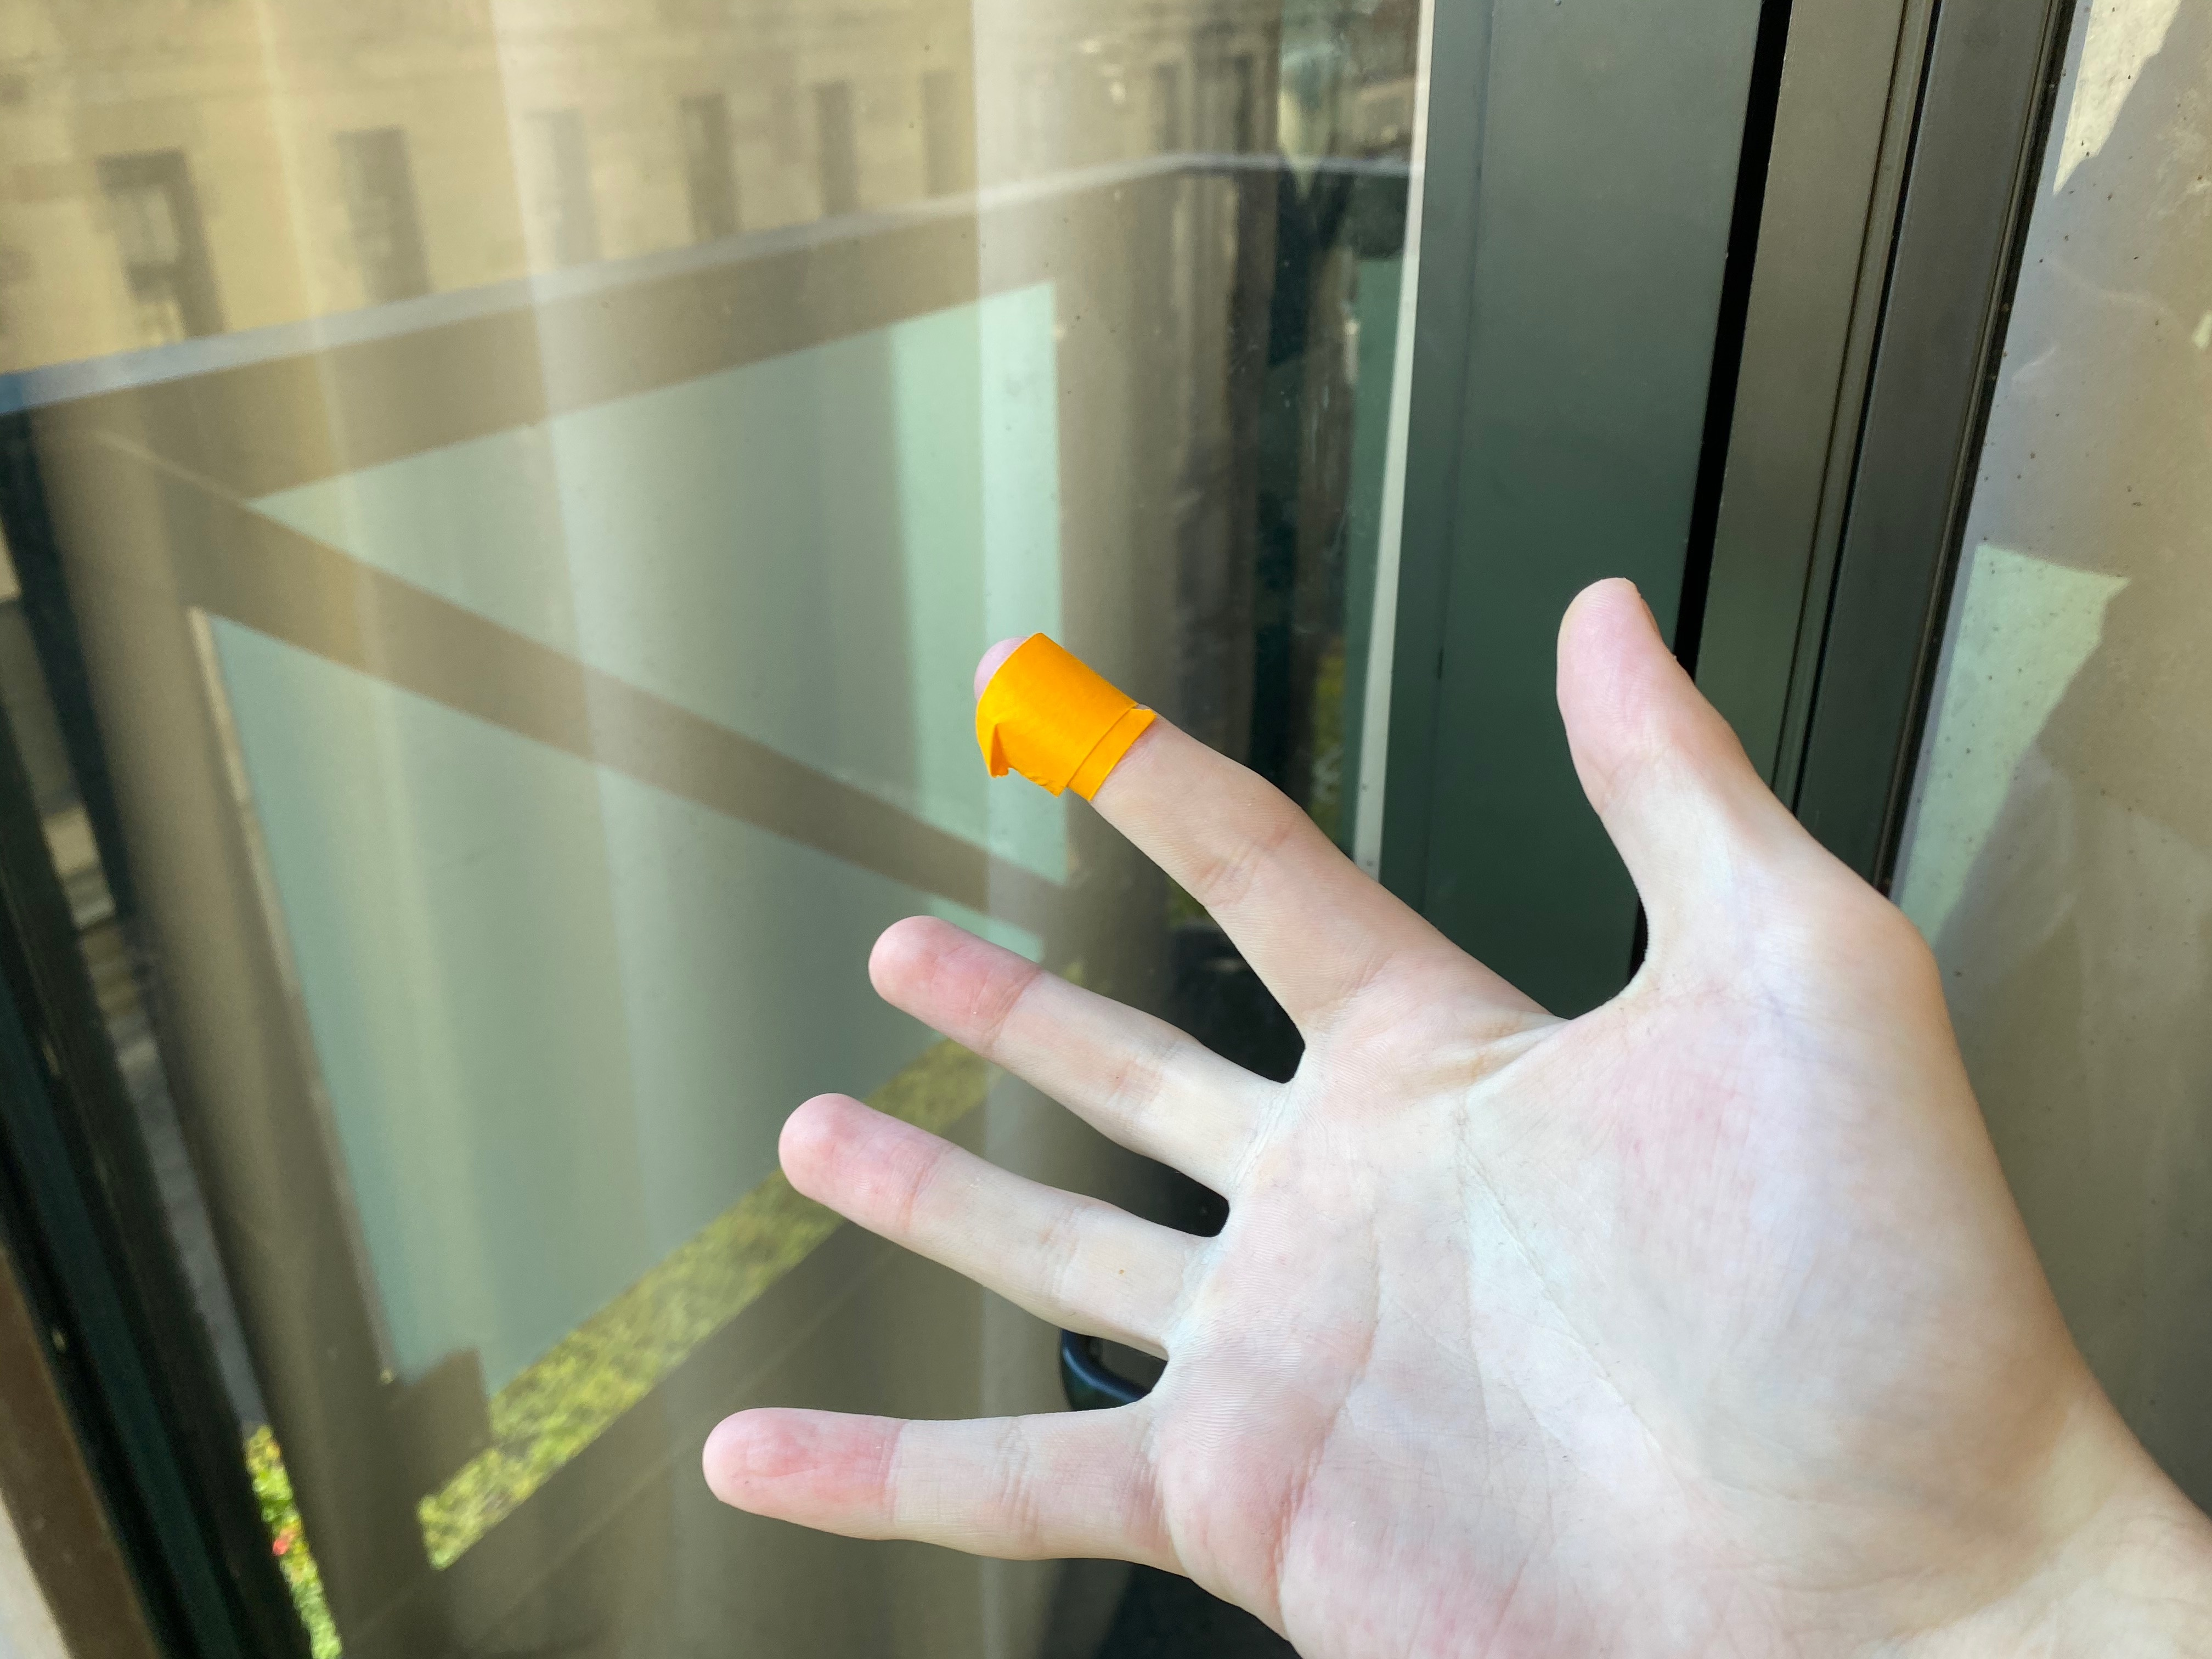fingertip: (968, 624, 1209, 828)
